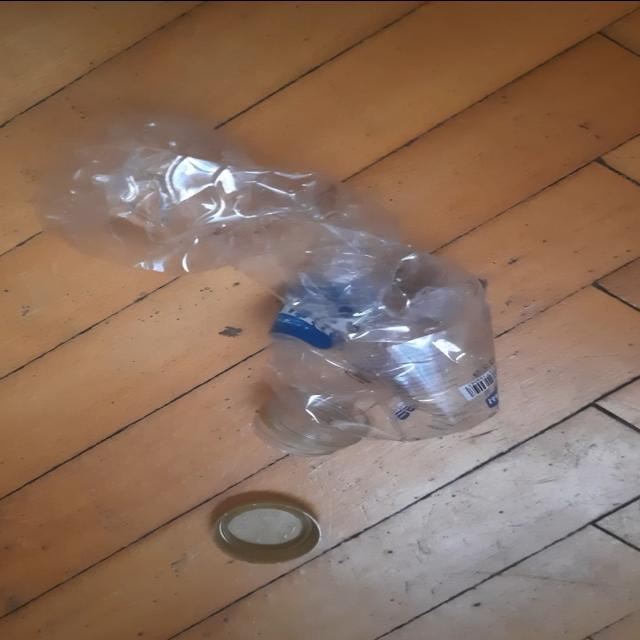Plastic: (30, 123, 500, 445)
